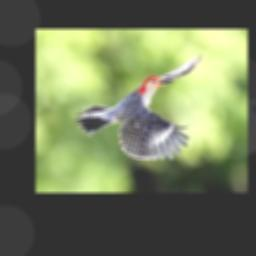Woodpecker: (75, 53, 202, 160)
